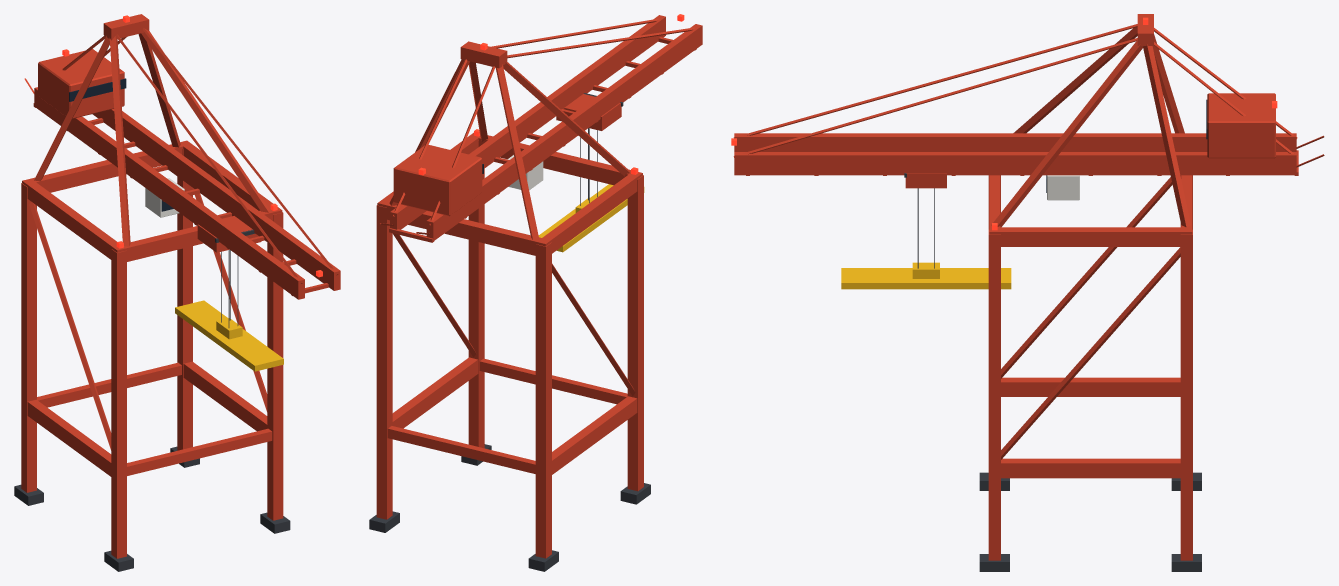
The model's file is gantry_crane.glb.
3 views of the same model, side by side, from view 1: azimuth 30°, elevation 25°; view 2: azimuth 150°, elevation 25°; view 3: azimuth 270°, elevation 25° (orthographic). The views are drawn at different scales.
Parts seen in each view (by area): view 1: gantry_crane, Spreader, Trolley; view 2: gantry_crane, Spreader, Trolley; view 3: gantry_crane, Spreader.
Part boxes in pixels (x1=…): gantry_crane: x1=14, y1=14, x2=340, y2=571; Spreader: x1=175, y1=250, x2=283, y2=371; Trolley: x1=197, y1=216, x2=261, y2=252; gantry_crane: x1=369, y1=14, x2=702, y2=571; Spreader: x1=538, y1=128, x2=644, y2=252; Trolley: x1=556, y1=93, x2=623, y2=130; gantry_crane: x1=731, y1=14, x2=1324, y2=571; Spreader: x1=841, y1=188, x2=1011, y2=289.
Size of the model in its own units: 15.4 by 40.9 by 43.23.
